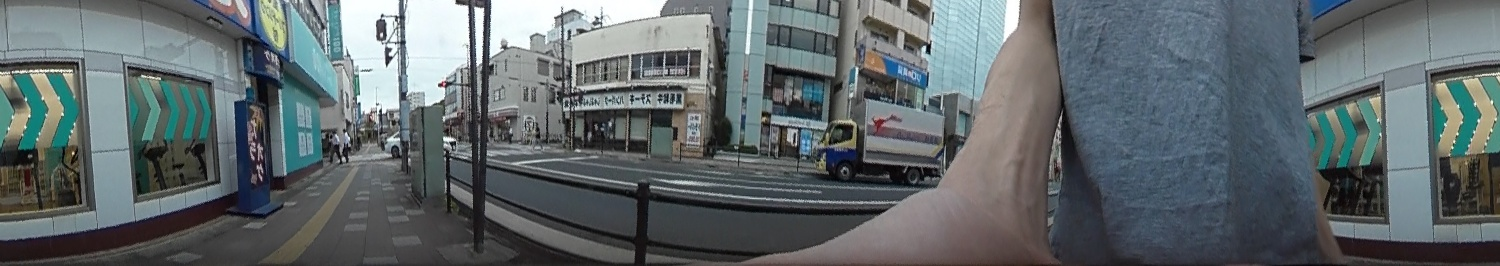difficult_person: (340, 127, 354, 164), (326, 128, 341, 162), (530, 121, 543, 150)
